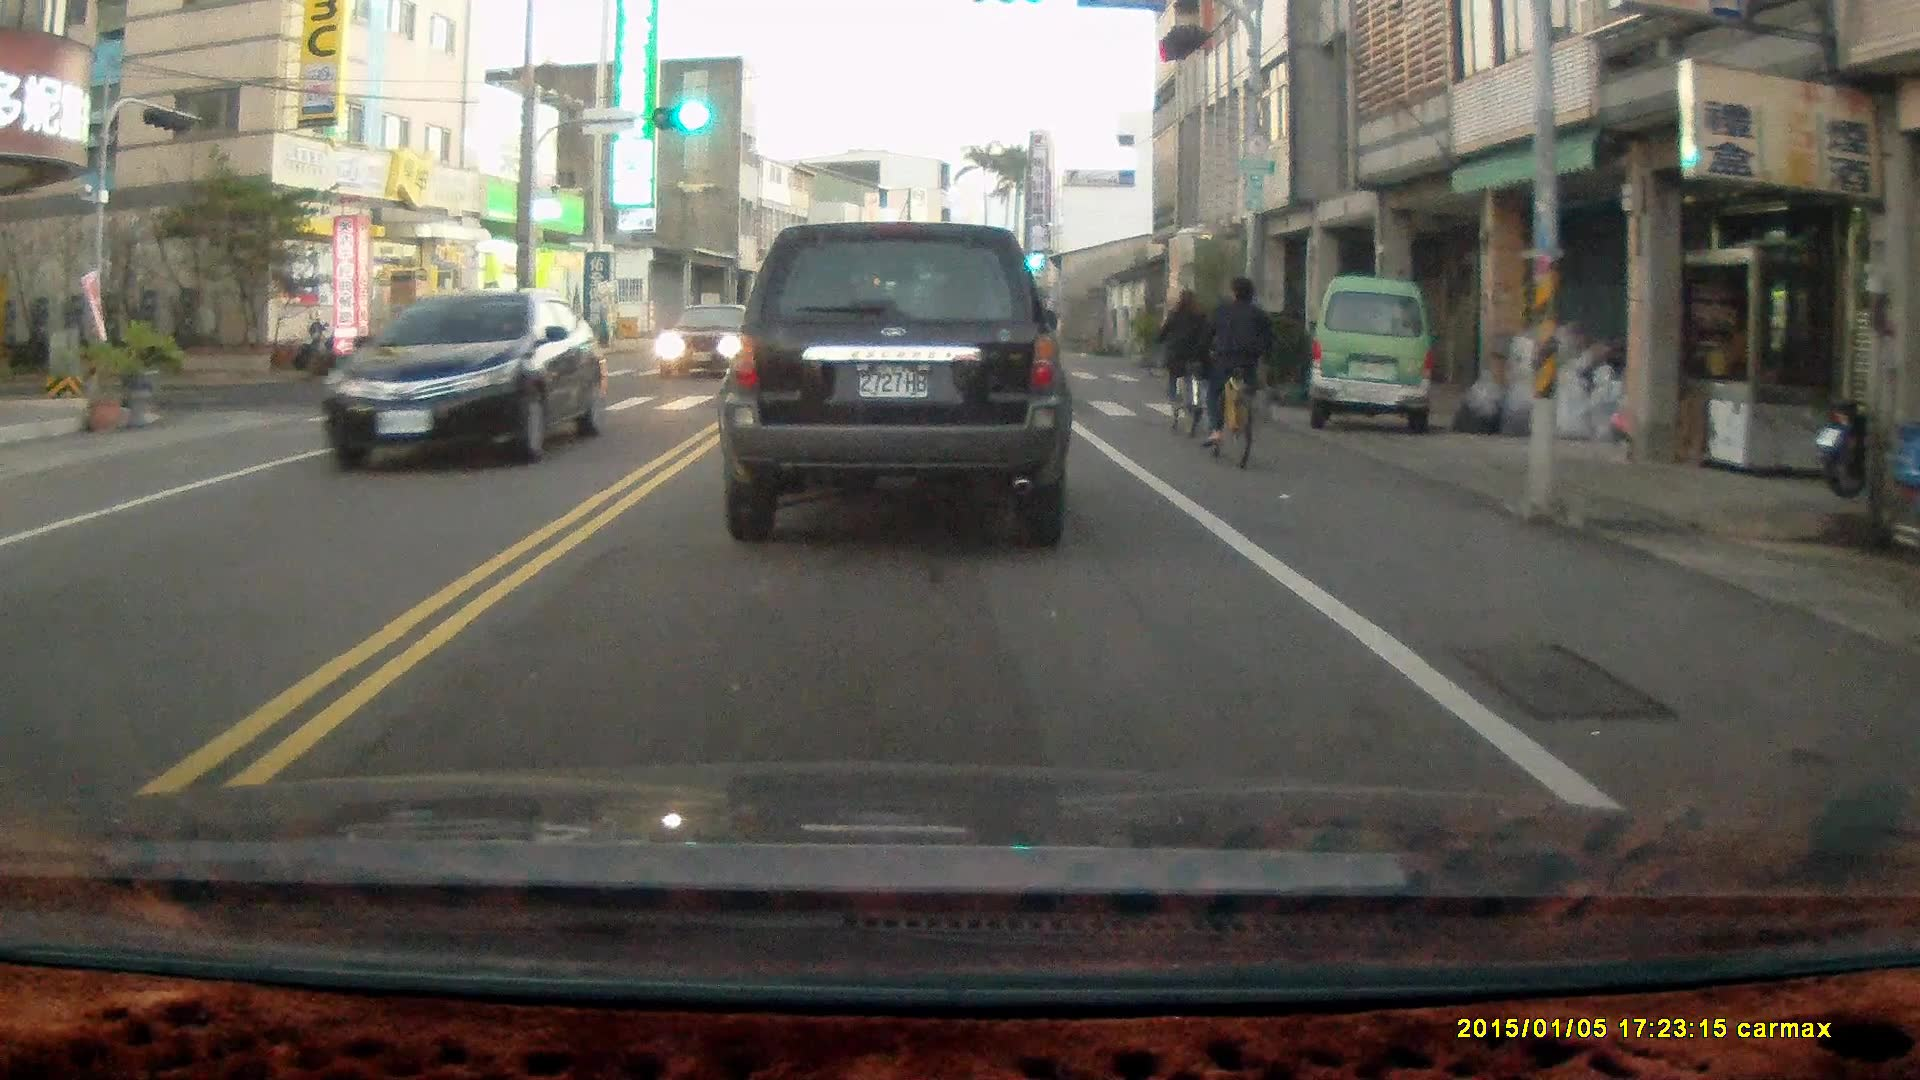rider: (1197, 271, 1272, 468), (1151, 284, 1213, 440)
vehicle: (719, 219, 1079, 544), (323, 285, 602, 476), (1305, 276, 1439, 438), (658, 302, 772, 384)
